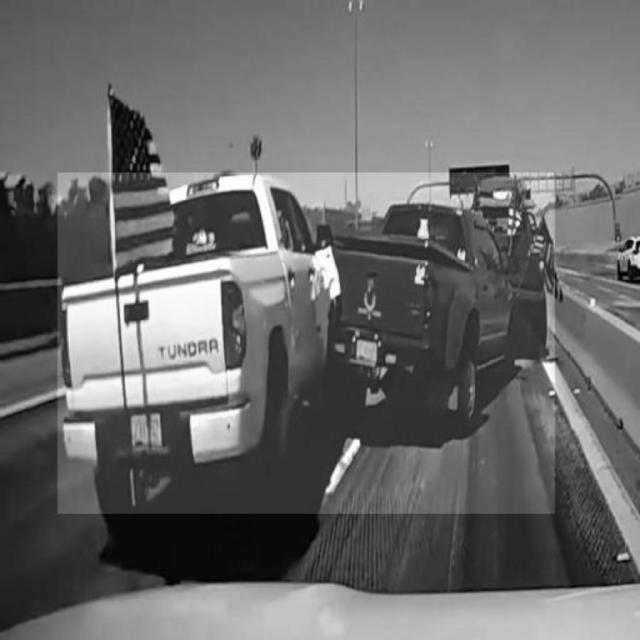accident: (58, 173, 555, 513)
